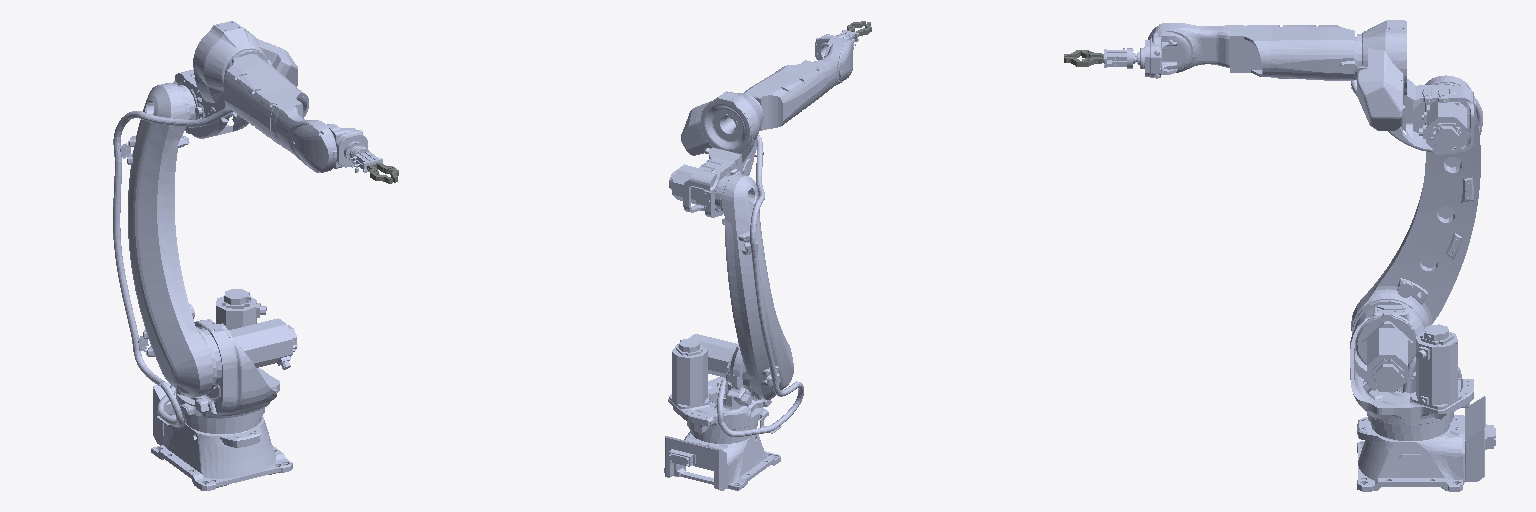
robot.urdf — fanuc_robot_arm_urdf:
<?xml version="1.0" encoding="utf-8"?>
<!-- This URDF was automatically created by SolidWorks to URDF Exporter! Originally created by [author] ([email redacted]) 
     Commit Version: 1.6.0-4-g7f85cfe  Build Version: 1.6.7995.38578
     For more information, please see http://wiki.ros.org/sw_urdf_exporter -->
<robot
  name="fanuc_robot_arm_urdf">
  <link
    name="base_link">
    <inertial>
      <origin
        xyz="0.0037623118237343 0.0233649736579788 0.09930339280761"
        rpy="0 0 0" />
      <mass
        value="5.21455413636668" />
      <inertia
        ixx="0.0818178211767607"
        ixy="-0.000851315665215272"
        ixz="0.000518444431029705"
        iyy="0.0612011535126665"
        iyz="-0.00441285447562061"
        izz="0.113362518054972" />
    </inertial>
    <visual>
      <origin
        xyz="0 0 0"
        rpy="0 0 0" />
      <geometry>
        <mesh
          filename="package://fanuc_robot_arm_urdf/meshes/base_link.STL" />
      </geometry>
      <material
        name="">
        <color
          rgba="0.792156862745098 0.819607843137255 0.933333333333333 1" />
      </material>
    </visual>
    <collision>
      <origin
        xyz="0 0 0"
        rpy="0 0 0" />
      <geometry>
        <mesh
          filename="package://fanuc_robot_arm_urdf/meshes/base_link.STL" />
      </geometry>
    </collision>
  </link>
  <link
    name="Link_1">
    <inertial>
      <origin
        xyz="0.0101951506640098 -0.0208453475047208 -0.18007813578874"
        rpy="0 0 0" />
      <mass
        value="18.4702468312934" />
      <inertia
        ixx="0.330887573871885"
        ixy="-0.0270508177878318"
        ixz="0.0159318030824333"
        iyy="0.334957542617796"
        iyz="-0.0413419605045573"
        izz="0.295774467915714" />
    </inertial>
    <visual>
      <origin
        xyz="0 0 0"
        rpy="0 0 0" />
      <geometry>
        <mesh
          filename="package://fanuc_robot_arm_urdf/meshes/Link_1.STL" />
      </geometry>
      <material
        name="">
        <color
          rgba="0.792156862745098 0.819607843137255 0.933333333333333 1" />
      </material>
    </visual>
    <collision>
      <origin
        xyz="0 0 0"
        rpy="0 0 0" />
      <geometry>
        <mesh
          filename="package://fanuc_robot_arm_urdf/meshes/Link_1.STL" />
      </geometry>
    </collision>
  </link>
  <joint
    name="Joint_1"
    type="revolute">
    <origin
      xyz="0 0 0.146953882032411"
      rpy="-3.14159265358979 0 -1.5707963267949" />
    <parent
      link="base_link" />
    <child
      link="Link_1" />
    <axis
      xyz="0 0 1" />
    <limit
      lower="-3.141"
      upper="3.141"
      effort="300"
      velocity="3" />
  </joint>
  <link
    name="Link_2">
    <inertial>
      <origin
        xyz="-0.0471353094577844 -0.121307565669711 0.354593614984901"
        rpy="0 0 0" />
      <mass
        value="20.7427711895469" />
      <inertia
        ixx="1.92563320831989"
        ixy="-0.0232271081933053"
        ixz="0.048431875875947"
        iyy="1.96865501197754"
        iyz="-0.0333749806624234"
        izz="0.129778465913495" />
    </inertial>
    <visual>
      <origin
        xyz="0 0 0"
        rpy="0 0 0" />
      <geometry>
        <mesh
          filename="package://fanuc_robot_arm_urdf/meshes/Link_2.STL" />
      </geometry>
      <material
        name="">
        <color
          rgba="0.792156862745098 0.819607843137255 0.933333333333333 1" />
      </material>
    </visual>
    <collision>
      <origin
        xyz="0 0 0"
        rpy="0 0 0" />
      <geometry>
        <mesh
          filename="package://fanuc_robot_arm_urdf/meshes/Link_2.STL" />
      </geometry>
    </collision>
  </link>
  <joint
    name="Joint_2"
    type="revolute">
    <origin
      xyz="0.075 0.065313 -0.27805"
      rpy="3.1416 0.22939 0" />
    <parent
      link="Link_1" />
    <child
      link="Link_2" />
    <axis
      xyz="0 -1 0" />
    <limit
      lower="-1.745"
      upper="1.57"
      effort="200"
      velocity="3" />
  </joint>
  <link
    name="Link_3">
    <inertial>
      <origin
        xyz="0.143587699747286 -0.0916697601593339 -0.11605729929243"
        rpy="0 0 0" />
      <mass
        value="13.1776759699531" />
      <inertia
        ixx="0.221888900638784"
        ixy="0.0100438976958944"
        ixz="0.0959036172551775"
        iyy="0.274911922350814"
        iyz="-0.00175836901768594"
        izz="0.21338999313663" />
    </inertial>
    <visual>
      <origin
        xyz="0 0 0"
        rpy="0 0 0" />
      <geometry>
        <mesh
          filename="package://fanuc_robot_arm_urdf/meshes/Link_3.STL" />
      </geometry>
      <material
        name="">
        <color
          rgba="0.792156862745098 0.819607843137255 0.933333333333333 1" />
      </material>
    </visual>
    <collision>
      <origin
        xyz="0 0 0"
        rpy="0 0 0" />
      <geometry>
        <mesh
          filename="package://fanuc_robot_arm_urdf/meshes/Link_3.STL" />
      </geometry>
    </collision>
  </link>
  <joint
    name="Joint_3"
    type="revolute">
    <origin
      xyz="0 0 0.84"
      rpy="3.1416 0.22939 0" />
    <parent
      link="Link_2" />
    <child
      link="Link_3" />
    <axis
      xyz="0 1 0" />
    <limit
      lower="-1.308"
      upper="3.141"
      effort="200"
      velocity="3" />
  </joint>
  <link
    name="Link_4">
    <inertial>
      <origin
        xyz="0.274780728112461 0.0629089171374008 0.000290547256552864"
        rpy="0 0 0" />
      <mass
        value="8.54560744143316" />
      <inertia
        ixx="0.0308369409844614"
        ixy="-0.0313207929458279"
        ixz="0.000268040055126923"
        iyy="0.299735696666817"
        iyz="2.093440209068E-05"
        izz="0.303229737500155" />
    </inertial>
    <visual>
      <origin
        xyz="0 0 0"
        rpy="0 0 0" />
      <geometry>
        <mesh
          filename="package://fanuc_robot_arm_urdf/meshes/Link_4.STL" />
      </geometry>
      <material
        name="">
        <color
          rgba="0.792156862745098 0.819607843137255 0.933333333333333 1" />
      </material>
    </visual>
    <collision>
      <origin
        xyz="0 0 0"
        rpy="0 0 0" />
      <geometry>
        <mesh
          filename="package://fanuc_robot_arm_urdf/meshes/Link_4.STL" />
      </geometry>
    </collision>
  </link>
  <joint
    name="Joint_4"
    type="revolute">
    <origin
      xyz="0.2955 -0.060313 -0.215"
      rpy="0 0 0" />
    <parent
      link="Link_3" />
    <child
      link="Link_4" />
    <axis
      xyz="-1 0 0" />
    <limit
      lower="-3.141"
      upper="3.141"
      effort="200"
      velocity="3" />
  </joint>
  <link
    name="Link_5">
    <inertial>
      <origin
        xyz="0.0321199207608664 0.017752720732735 2.51878365498115E-06"
        rpy="0 0 0" />
      <mass
        value="0.547224825812627" />
      <inertia
        ixx="0.00144308507188214"
        ixy="0.000346649011812299"
        ixz="9.44395760586892E-09"
        iyy="0.00156975788378303"
        iyz="1.51715406662823E-09"
        izz="0.00135883143994367" />
    </inertial>
    <visual>
      <origin
        xyz="0 0 0"
        rpy="0 0 0" />
      <geometry>
        <mesh
          filename="package://fanuc_robot_arm_urdf/meshes/Link_5.STL" />
      </geometry>
      <material
        name="">
        <color
          rgba="0.792156862745098 0.819607843137255 0.933333333333333 1" />
      </material>
    </visual>
    <collision>
      <origin
        xyz="0 0 0"
        rpy="0 0 0" />
      <geometry>
        <mesh
          filename="package://fanuc_robot_arm_urdf/meshes/Link_5.STL" />
      </geometry>
    </collision>
  </link>
  <joint
    name="Joint_5"
    type="revolute">
    <origin
      xyz="0.59436 0 0"
      rpy="0 0 0" />
    <parent
      link="Link_4" />
    <child
      link="Link_5" />
    <axis
      xyz="0 -1 0" />
    <limit
      lower="-1.570"
      upper="1.570"
      effort="200"
      velocity="3" />
  </joint>
  <link
    name="Link_6">
    <inertial>
      <origin
        xyz="-0.0910020055148162 0.000190800525516454 3.00522104691447E-05"
        rpy="0 0 0" />
      <mass
        value="1.14313837078303" />
      <inertia
        ixx="0.000665726048444208"
        ixy="1.64851183008346E-07"
        ixz="9.28822928080864E-08"
        iyy="0.000493473199509507"
        iyz="-2.28435566561703E-06"
        izz="0.000535719651817859" />
    </inertial>
    <visual>
      <origin
        xyz="0 0 0"
        rpy="0 0 0" />
      <geometry>
        <mesh
          filename="package://fanuc_robot_arm_urdf/meshes/Link_6.STL" />
      </geometry>
      <material
        name="">
        <color
          rgba="0.792156862745098 0.819607843137255 0.933333333333333 1" />
      </material>
    </visual>
    <collision>
      <origin
        xyz="0 0 0"
        rpy="0 0 0" />
      <geometry>
        <mesh
          filename="package://fanuc_robot_arm_urdf/meshes/Link_6.STL" />
      </geometry>
    </collision>
  </link>
  <joint
    name="Joint_6"
    type="continuous">
    <origin
      xyz="0.0286 0 0"
      rpy="3.1416 0 -3.1416" />
    <parent
      link="Link_5" />
    <child
      link="Link_6" />
    <axis
      xyz="-1 0 0" />
    <limit
      lower="0.0"
      upper="0.0"
      effort="200"
      velocity="3" />
  </joint>
  <link
    name="Link_7">
    <inertial>
      <origin
        xyz="-0.133893547911394 -0.0228342247351931 2.39469355456379E-09"
        rpy="0 0 0" />
      <mass
        value="0.322031270645541" />
      <inertia
        ixx="3.81746907032006E-05"
        ixy="1.3712824566115E-05"
        ixz="-8.1224334398781E-14"
        iyy="0.000281665029496672"
        iyz="4.72922294772557E-15"
        izz="0.000303748065866347" />
    </inertial>
    <visual>
      <origin
        xyz="0 0 0"
        rpy="0 0 0" />
      <geometry>
        <mesh
          filename="package://fanuc_robot_arm_urdf/meshes/Link_7.STL" />
      </geometry>
      <material
        name="">
        <color
          rgba="0.529411764705882 0.549019607843137 0.549019607843137 1" />
      </material>
    </visual>
    <collision>
      <origin
        xyz="0 0 0"
        rpy="0 0 0" />
      <geometry>
        <mesh
          filename="package://fanuc_robot_arm_urdf/meshes/Link_7.STL" />
      </geometry>
    </collision>
  </link>
  <joint
    name="Joint_7"
    type="prismatic">
    <origin
      xyz="-0.1132 -1E-05 0"
      rpy="3.1416 0 0" />
    <parent
      link="Link_6" />
    <child
      link="Link_7" />
    <axis
      xyz="0 -1 0" />
    <limit
      lower="0"
      upper="0.01"
      effort="100"
      velocity="3" />
  </joint>
  <link
    name="LInk_8">
    <inertial>
      <origin
        xyz="-0.133893547911394 0.0228342426650648 1.47263168326361E-09"
        rpy="0 0 0" />
      <mass
        value="0.322031270645541" />
      <inertia
        ixx="3.81746907032003E-05"
        ixy="-1.37128245661122E-05"
        ixz="8.12268732471391E-14"
        iyy="0.000281665029496673"
        iyz="4.72938122428486E-15"
        izz="0.000303748065866347" />
    </inertial>
    <visual>
      <origin
        xyz="0 0 0"
        rpy="0 0 0" />
      <geometry>
        <mesh
          filename="package://fanuc_robot_arm_urdf/meshes/LInk_8.STL" />
      </geometry>
      <material
        name="">
        <color
          rgba="0.529411764705882 0.549019607843137 0.549019607843137 1" />
      </material>
    </visual>
    <collision>
      <origin
        xyz="0 0 0"
        rpy="0 0 0" />
      <geometry>
        <mesh
          filename="package://fanuc_robot_arm_urdf/meshes/LInk_8.STL" />
      </geometry>
    </collision>
  </link>
  <joint
    name="Joint_8"
    type="prismatic">
    <origin
      xyz="-0.1132 1.0017E-05 0"
      rpy="3.1416 0 0" />
    <parent
      link="Link_6" />
    <child
      link="LInk_8" />
    <axis
      xyz="0 1 0" />
    <limit
      lower="0.0"
      upper="0.01"
      effort="100"
      velocity="3" />
  </joint>
</robot>

--- Render facts (derived) ---
3 views of the same robot in one strip: view 1: azimuth 30°, elevation 25°; view 2: azimuth 150°, elevation 25°; view 3: azimuth 270°, elevation 25° (orthographic).
Model fanuc_robot_arm_urdf with 9 links and 8 joints (5 revolute, 1 continuous, 2 prismatic), rooted at base_link, posed every joint at zero.
Links seen in each view (by area): view 1: Link_2, Link_1, Link_4, base_link, Link_3, Link_5, Link_6; view 2: Link_2, Link_1, Link_3, Link_4, base_link; view 3: Link_1, Link_2, Link_3, Link_4, base_link, Link_5, Link_6.
Link boxes in pixels (box(x1,y1,x2,y2)): Link_2: box(113, 83, 221, 397); Link_1: box(157, 289, 297, 433); Link_4: box(224, 54, 336, 172); base_link: box(151, 382, 292, 490); Link_3: box(138, 21, 297, 138); Link_5: box(327, 124, 367, 168); Link_6: box(344, 141, 382, 172); Link_2: box(715, 174, 799, 400); Link_1: box(668, 334, 803, 443); Link_3: box(669, 91, 764, 217); Link_4: box(744, 38, 852, 130); base_link: box(664, 392, 780, 490); Link_1: box(1350, 305, 1473, 440); Link_2: box(1351, 75, 1482, 334); Link_3: box(1351, 20, 1475, 154); Link_4: box(1148, 23, 1354, 80); base_link: box(1357, 378, 1495, 491); Link_5: box(1145, 32, 1190, 78); Link_6: box(1104, 47, 1144, 68).
Size in the robot's own frame: 0.5141 by 1.39 by 1.58 metres.
9 mesh visuals loaded from 9 distinct referenced files (9 binary STL).